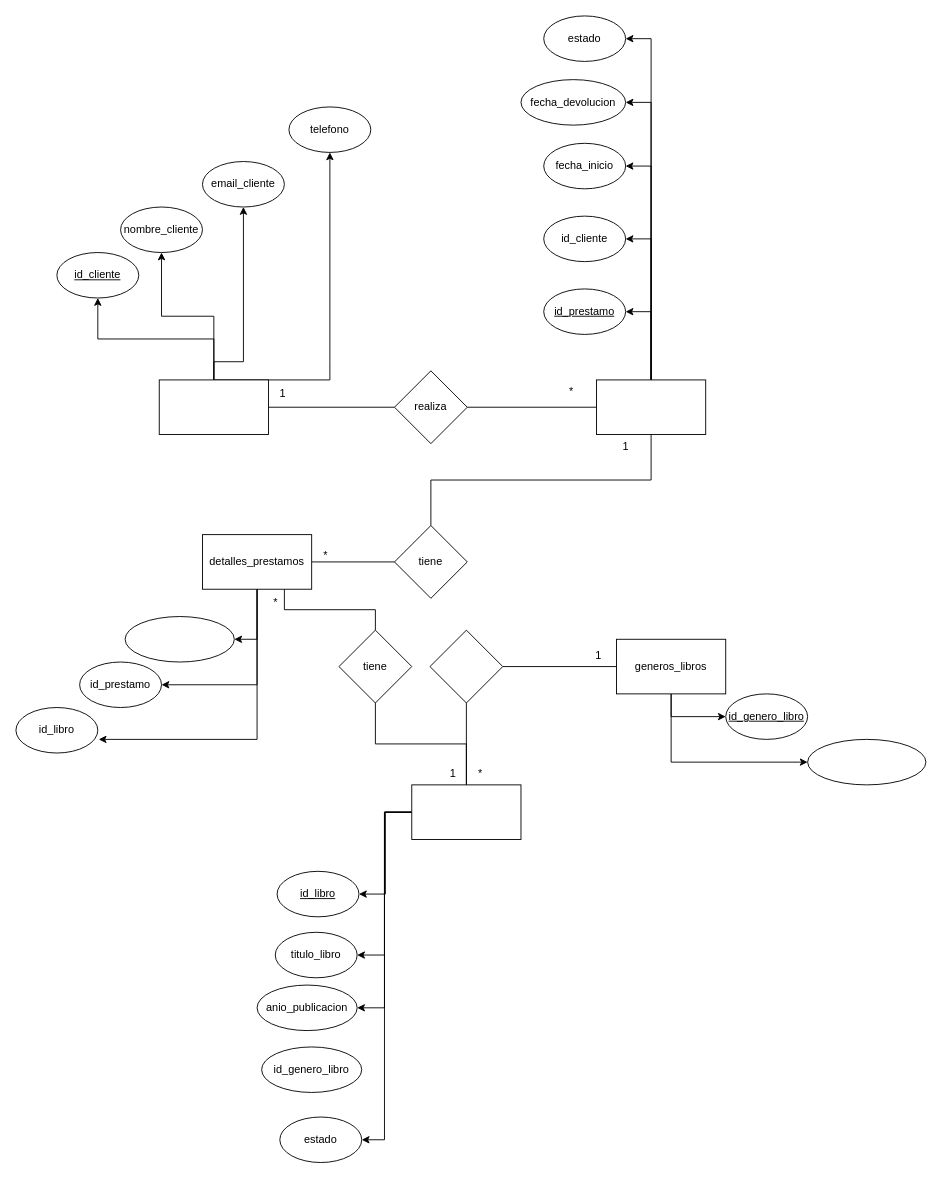
Image size: 942x1178. Some labels were removed from this diagram. The shapes that lost their labels are listed below. From the top down, each one's centre as x and y in pixels, then its label:
pixel 213 407: clientes
pixel 651 407: prestamos
pixel 179 639: id_detalle_prestamo
pixel 466 666: Pertenece
pixel 866 761: nombre_genero_libro
pixel 466 811: libros
